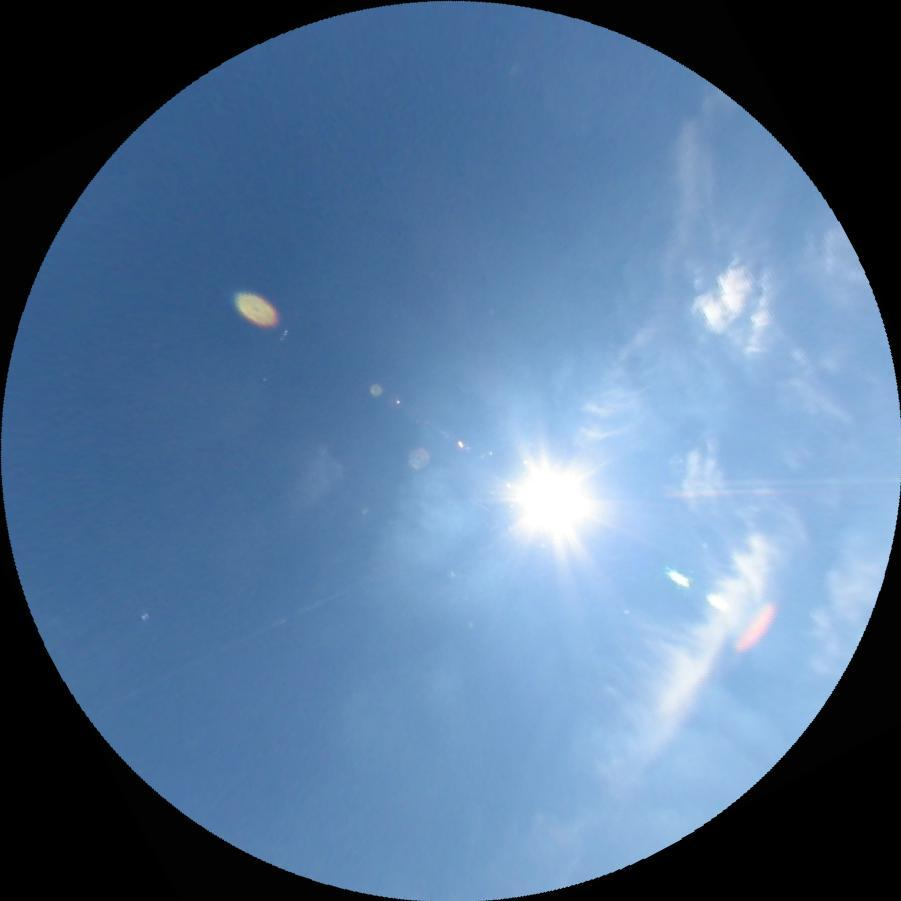contrail veryold: (566, 80, 739, 482)
parasite: (84, 585, 348, 717), (669, 484, 815, 498), (718, 476, 900, 485)
sun: (504, 453, 595, 546)
unknow: (475, 502, 489, 511)
